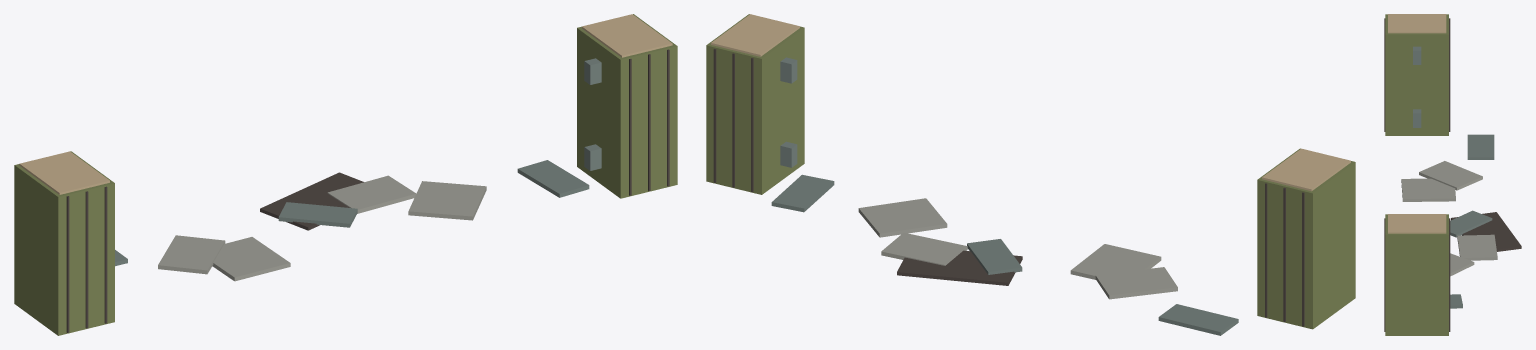
File: SM_PuertaVehiculos_v1_ChapaOndulada_e3_Brecha_LOD0.fbx
3 renders of one model, left to right at view 1: azimuth 30°, elevation 25°; view 2: azimuth 150°, elevation 25°; view 3: azimuth 270°, elevation 25°, orthographic. The views are drawn at different scales.
Visible parts, largest first — view 1: SM_bloques.puerta_estados_v7_LOD0, Hoja_E; view 2: SM_bloques.puerta_estados_v7_LOD0, Hoja_E; view 3: SM_bloques.puerta_estados_v7_LOD0, Hoja_O.
Boxes of the visible parts, x1,y1,x2,y2 form: SM_bloques.puerta_estados_v7_LOD0: (14,14,677,335); Hoja_E: (584,58,601,170); SM_bloques.puerta_estados_v7_LOD0: (706,14,1355,335); Hoja_E: (780,57,797,167); SM_bloques.puerta_estados_v7_LOD0: (1384,14,1521,335); Hoja_O: (1413,46,1421,127).
Bounding box in the file's own units: 9.8 × 2.13 × 2.59.
